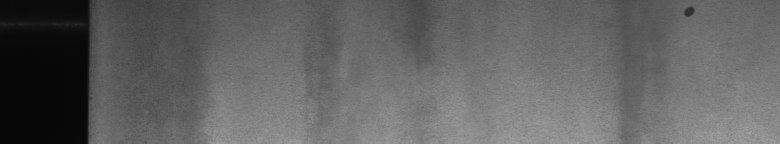fi: (677, 4, 699, 24)
